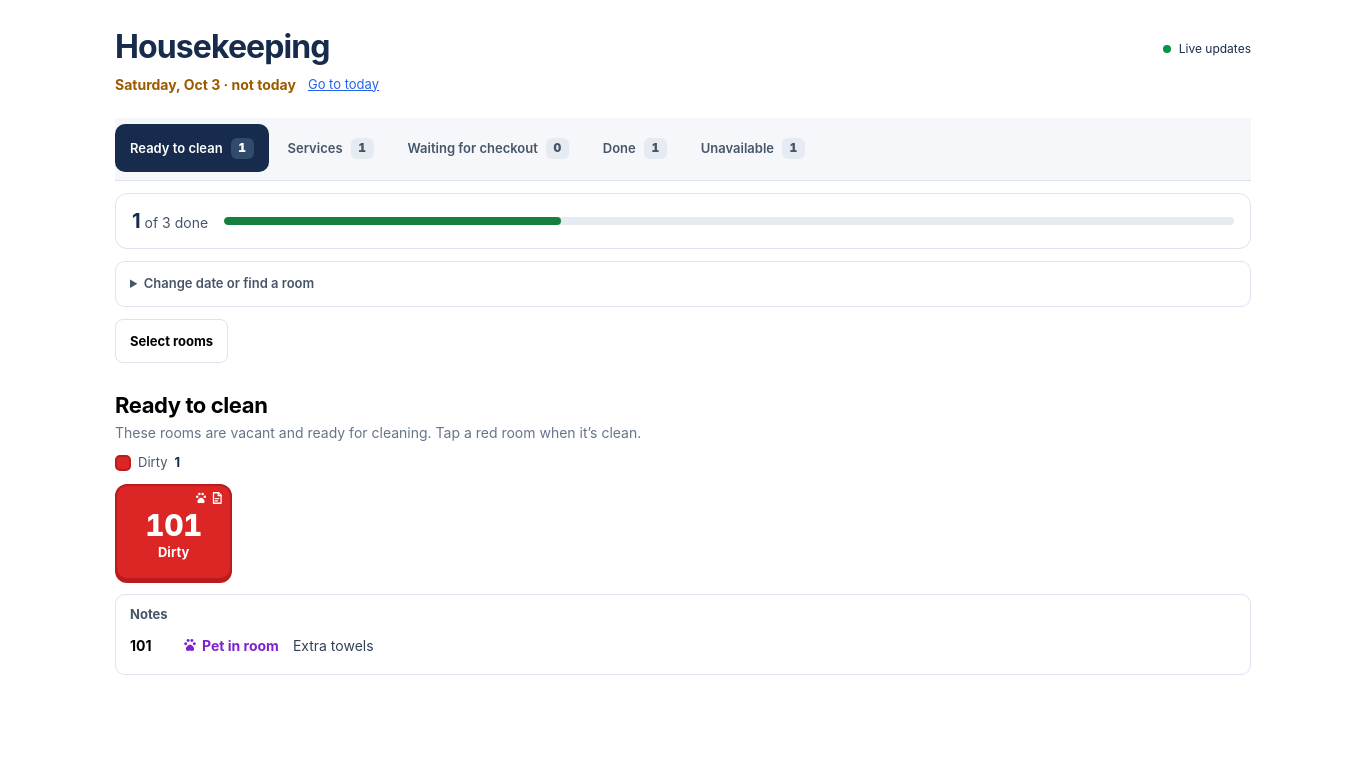
Test: one tap marks a red room clean for the front desk, and Undo makes it dirty again
The width and height of the screenshot is (1366, 768).
Click the button with aria-label "Mark room 101 clean": x=174, y=532 [115,484,232,580]
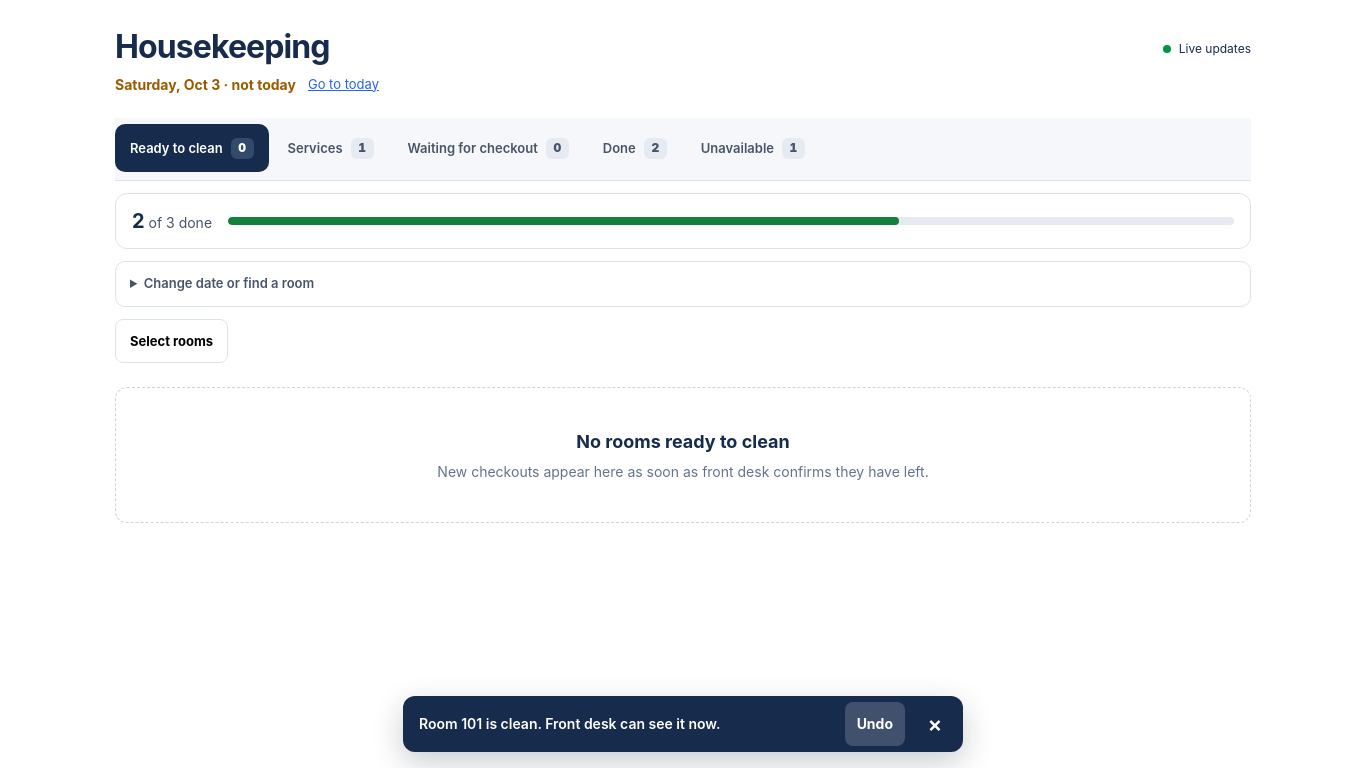
Check: the text "Room 101 is clean. Front desk can see it now." is shown, box [419,715,720,732]
Click the button with aria-label "Undo room 101": x=875, y=724 [845,702,905,746]
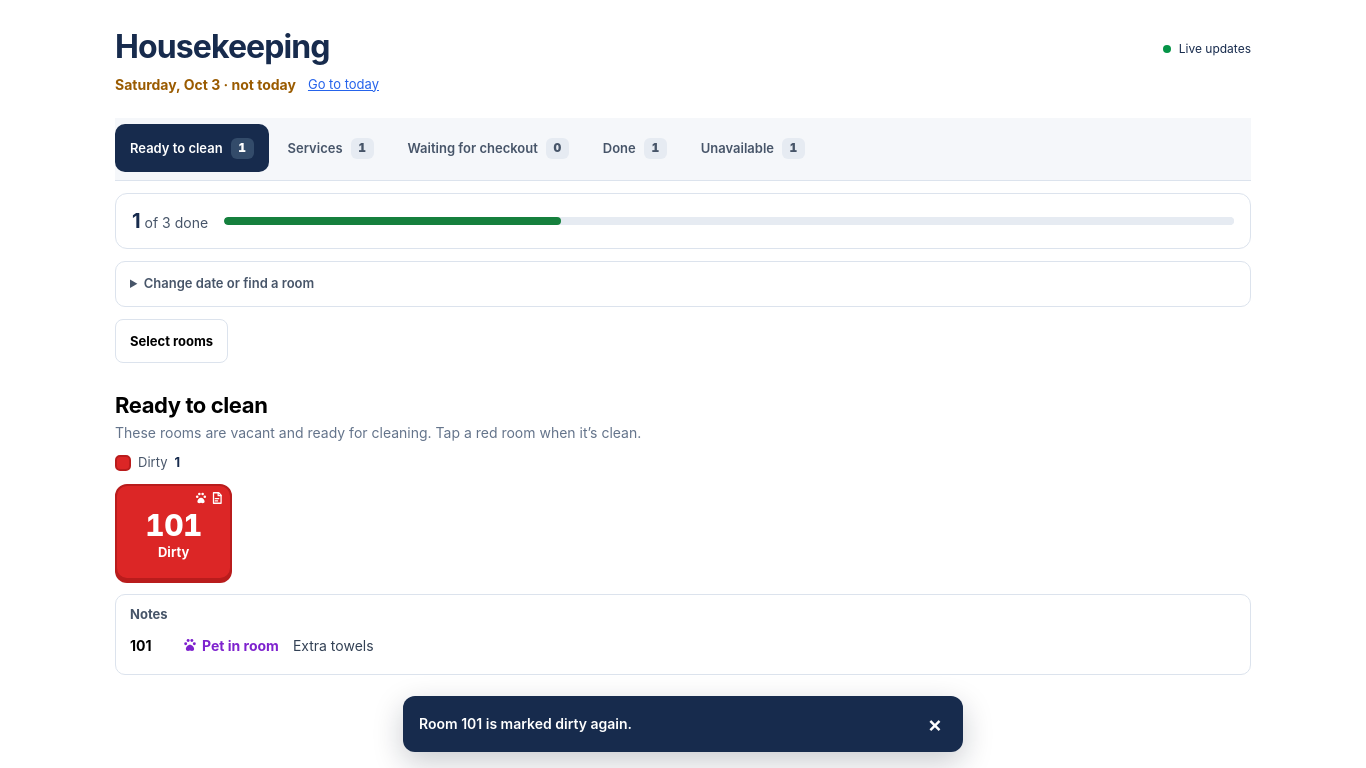
Check: the list item with aria-label "Room 101, Dirty" is shown, box [115,484,232,580]
Check: the text "Room 101 is marked dirty again." is shown, box [419,715,632,732]
